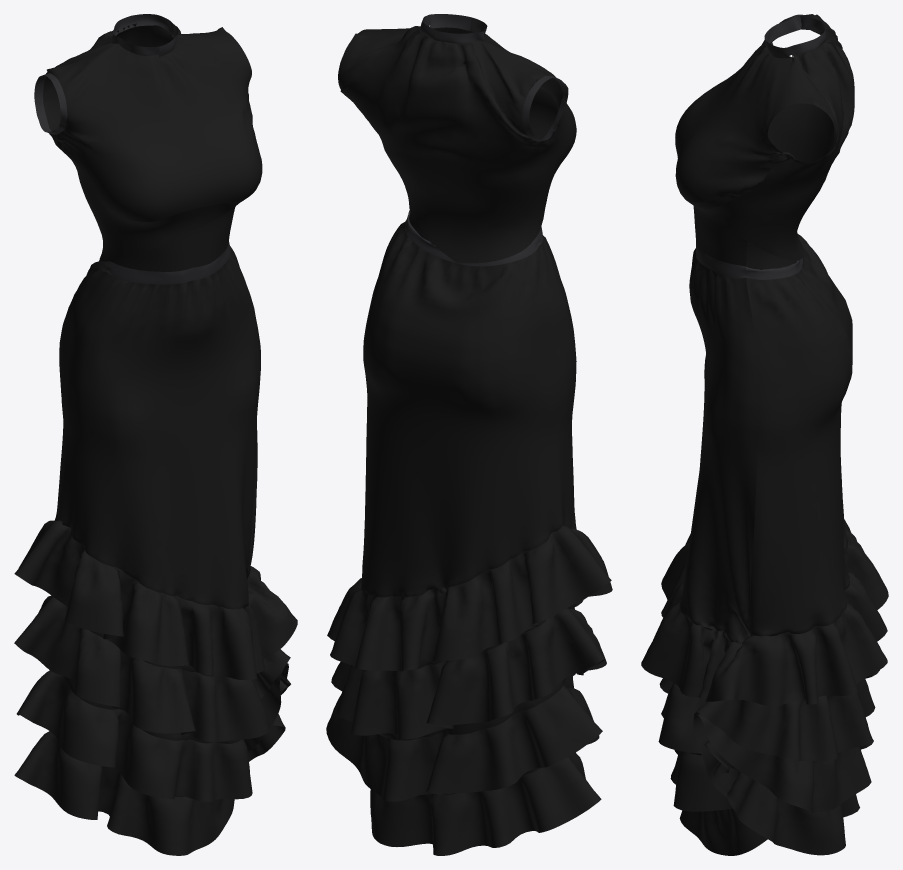
File: G_clothe_without_sleeve.glb
The picture shows the model from 3 angles, left to right: view 1: azimuth 30°, elevation 25°; view 2: azimuth 150°, elevation 25°; view 3: azimuth 270°, elevation 25°; orthographic projection. The views are drawn at different scales.
Parts seen in each view (by area): view 1: Garment; view 2: Garment; view 3: Garment.
Part boxes in pixels (x1,y1,x2,y2): Garment: (14, 14, 297, 855); Garment: (326, 14, 612, 855); Garment: (641, 14, 888, 855).
Size of the model in its own units: 0.4859 by 1.41 by 0.3899.
1 material, 1 textured.
